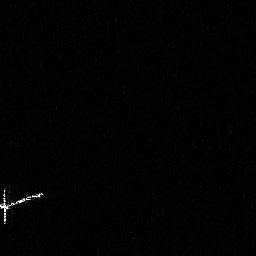ship: (1, 186, 45, 225)
